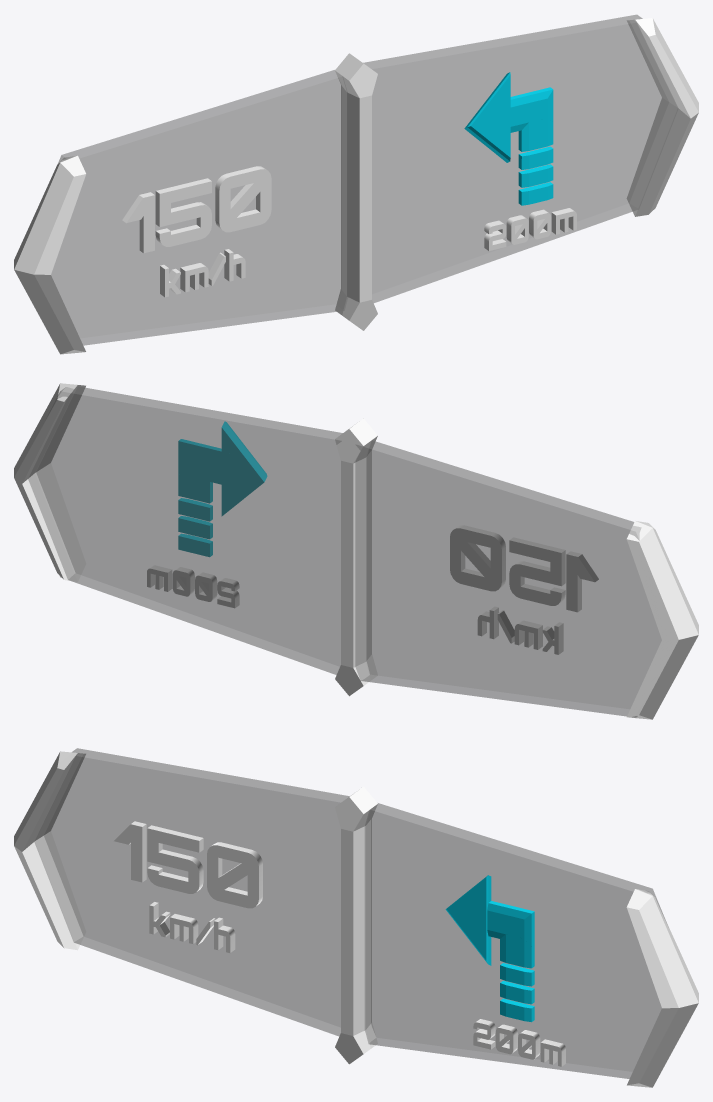
File: SimpleUI.gltf
The picture shows the model from 3 angles, top to bottom: view 1: azimuth 30°, elevation 25°; view 2: azimuth 150°, elevation 25°; view 3: azimuth 330°, elevation 25°; orthographic projection.
Parts seen in each view (by area): view 1: BackPlateSimple, MiddleSeperator.002, SpeedText.001, SideBars_Simple_001, SideBars_Simple_1, DistanceDirectionsText__1_, Plane_008_Material_001_0_001.001, DistanceDirectionsText__2_, Cube_005.001, Cube_006.001, Cube_007.001; view 2: BackPlateSimple, MiddleSeperator.002, SpeedText.001, SideBars_Simple_001, SideBars_Simple_1, DistanceDirectionsText__1_, Plane_008_Material_001_0_001.001, DistanceDirectionsText__2_, Cube_006.001, Cube_005.001, Cube_007.001; view 3: BackPlateSimple, MiddleSeperator.002, SpeedText.001, SideBars_Simple_1, SideBars_Simple_001, DistanceDirectionsText__1_, Plane_008_Material_001_0_001.001, DistanceDirectionsText__2_, Cube_005.001, Cube_006.001, Cube_007.001.
Boxes of the visible parts, bbox=[...] form: BackPlateSimple: bbox=[51, 14, 678, 345]; MiddleSeperator.002: bbox=[335, 53, 377, 330]; SpeedText.001: bbox=[122, 166, 271, 253]; SideBars_Simple_001: bbox=[14, 155, 85, 354]; SideBars_Simple_1: bbox=[627, 18, 698, 216]; DistanceDirectionsText__1_: bbox=[484, 208, 576, 250]; Plane_008_Material_001_0_001.001: bbox=[464, 72, 510, 162]; DistanceDirectionsText__2_: bbox=[160, 249, 245, 297]; Cube_005.001: bbox=[518, 146, 553, 205]; Cube_006.001: bbox=[510, 87, 553, 132]; Cube_007.001: bbox=[518, 118, 553, 151]; BackPlateSimple: bbox=[28, 386, 661, 717]; MiddleSeperator.002: bbox=[335, 418, 377, 696]; SpeedText.001: bbox=[450, 525, 598, 611]; SideBars_Simple_001: bbox=[626, 521, 698, 719]; SideBars_Simple_1: bbox=[14, 383, 85, 581]; DistanceDirectionsText__1_: bbox=[147, 565, 239, 607]; Plane_008_Material_001_0_001.001: bbox=[222, 421, 266, 515]; DistanceDirectionsText__2_: bbox=[478, 607, 563, 654]; Cube_006.001: bbox=[178, 439, 230, 486]; Cube_005.001: bbox=[178, 498, 212, 556]; Cube_007.001: bbox=[178, 474, 212, 503]; BackPlateSimple: bbox=[34, 748, 667, 1078]; MiddleSeperator.002: bbox=[335, 786, 377, 1064]; SpeedText.001: bbox=[114, 821, 262, 908]; SideBars_Simple_1: bbox=[626, 889, 698, 1087]; SideBars_Simple_001: bbox=[14, 751, 85, 950]; DistanceDirectionsText__1_: bbox=[473, 1019, 565, 1066]; Plane_008_Material_001_0_001.001: bbox=[445, 875, 491, 965]; DistanceDirectionsText__2_: bbox=[149, 902, 235, 952]; Cube_005.001: bbox=[500, 963, 534, 1022]; Cube_006.001: bbox=[487, 901, 534, 946]; Cube_007.001: bbox=[500, 934, 534, 968].
Bounding box in the file's own units: 0.3295 × 0.123 × 0.024.
